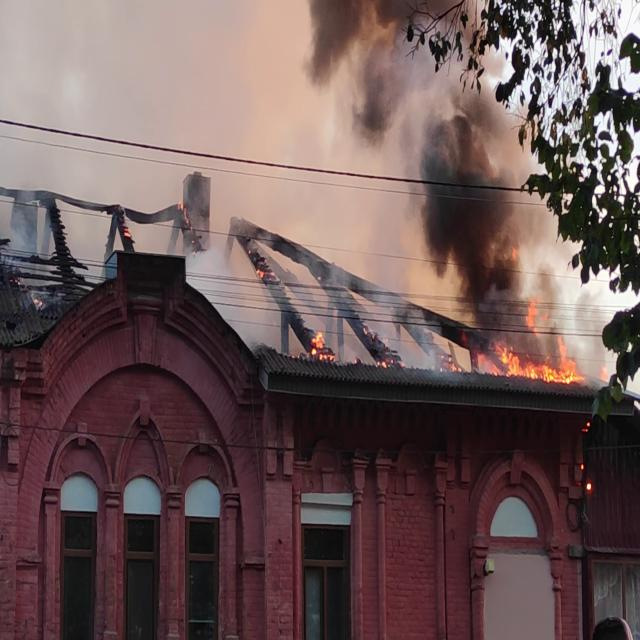fire: (496, 324, 580, 382)
smoke: (421, 106, 518, 278)
